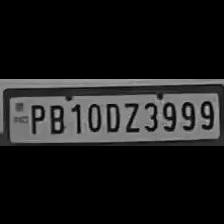0: (84, 100, 104, 132)
1: (67, 100, 85, 134)
3: (140, 97, 158, 131)
9: (178, 96, 196, 130), (196, 95, 214, 129), (159, 97, 177, 130)
B: (46, 100, 66, 134)
D: (102, 99, 120, 133)
P: (25, 100, 45, 134)
Z: (120, 99, 140, 133)
